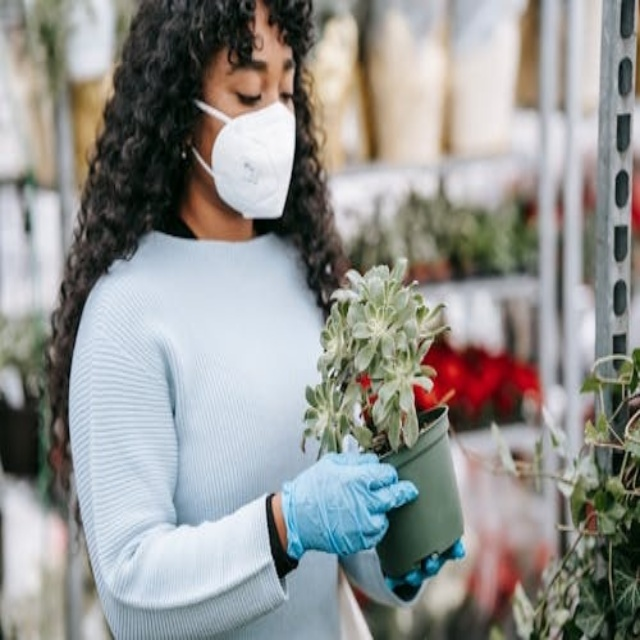Guantes: (279, 450, 418, 564), (385, 539, 467, 597)
Mascara: (190, 95, 297, 219)
Sin_gafas: (209, 60, 301, 111)
